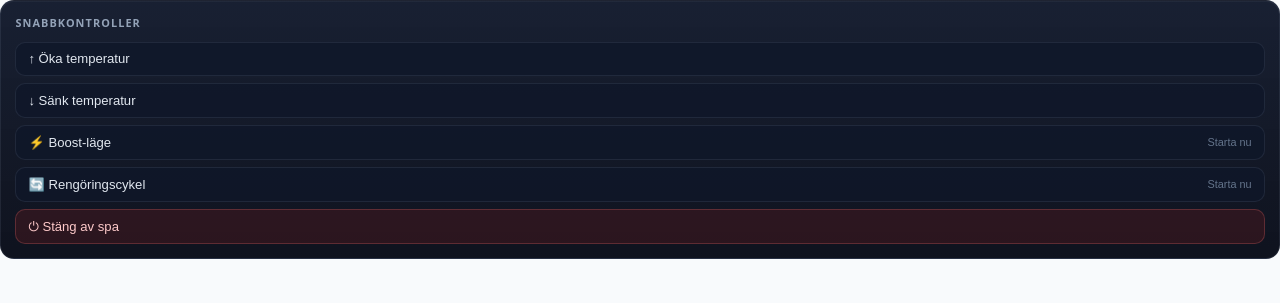
Test: SpaQuickControls › starts cleaning cycle and shows API message
Click the button "🔄 Rengöringscykel Starta nu". click: click(87, 184)
box: [15, 167, 1265, 202]
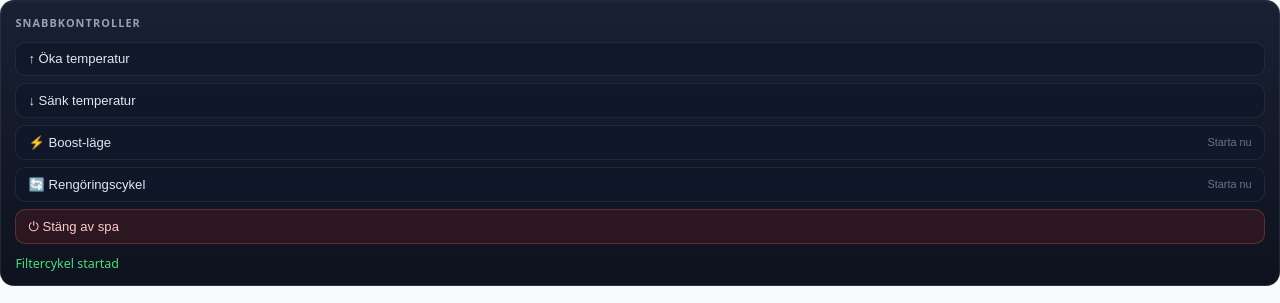
expect the text "Filtercykel startad" is shown: met, box [15, 255, 119, 272]
